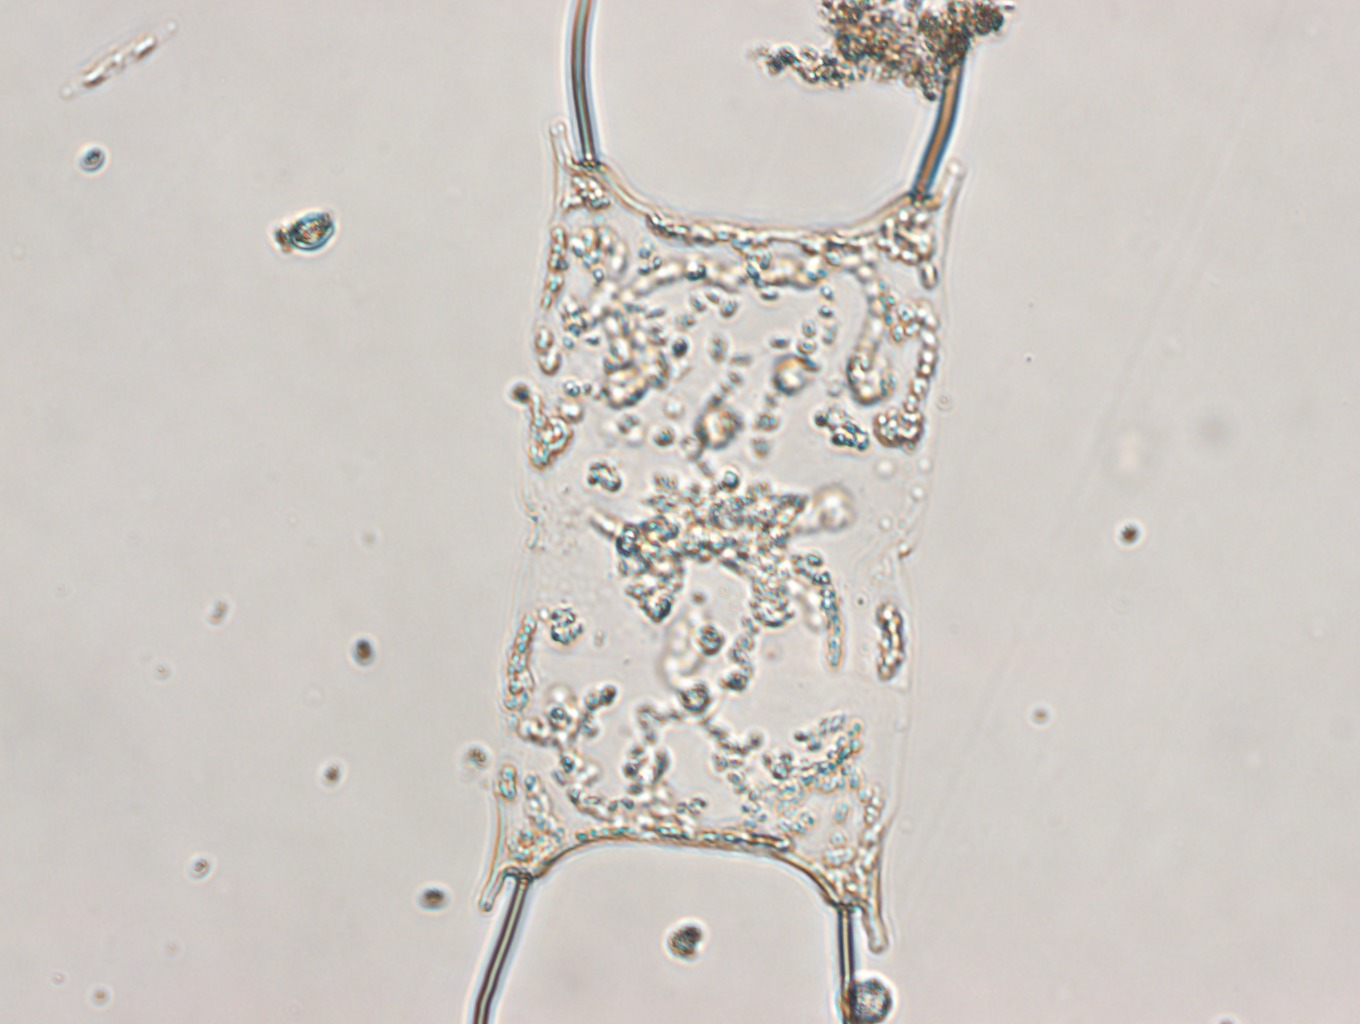biddulphia: (474, 1, 973, 1024)
